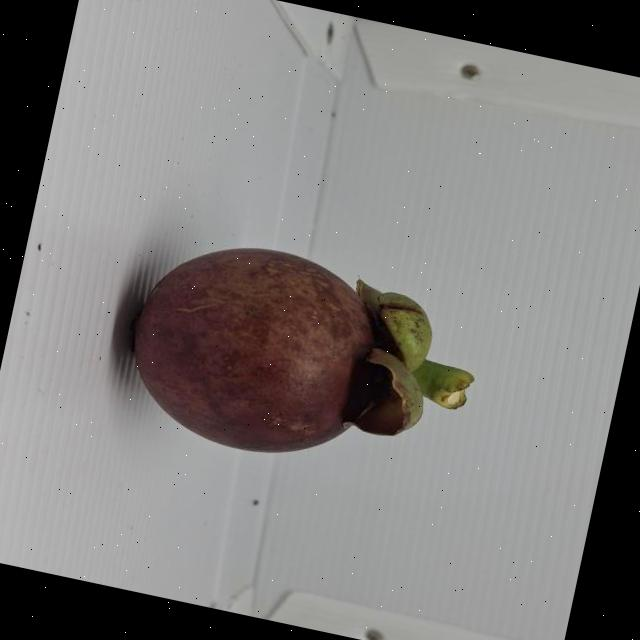mangosteen: (54, 167, 521, 560)
